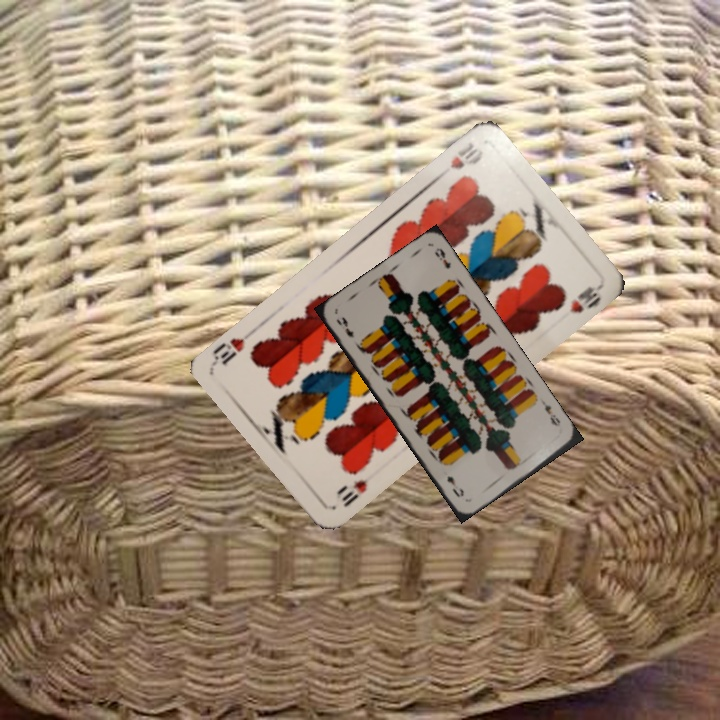E9: (538, 398, 563, 429), (332, 313, 357, 341)
H10: (434, 138, 486, 181), (337, 475, 370, 510)
